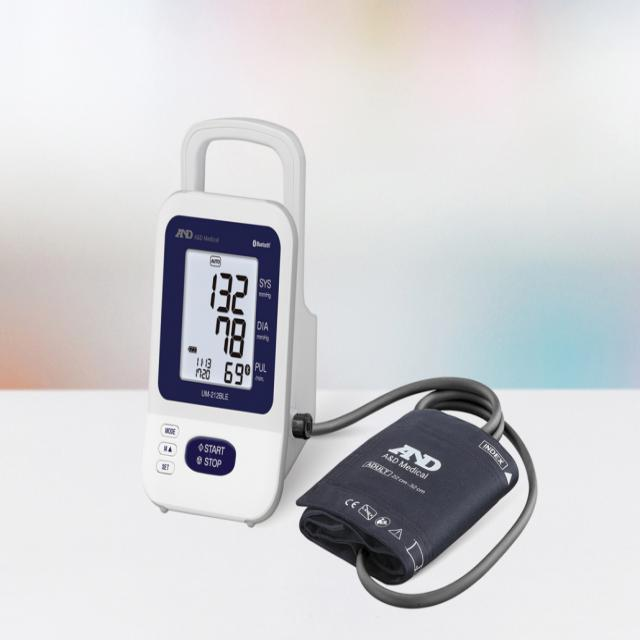dia: (211, 311, 251, 364)
pul: (218, 355, 248, 393)
ssd: (181, 252, 255, 389)
sys: (201, 268, 257, 322)
